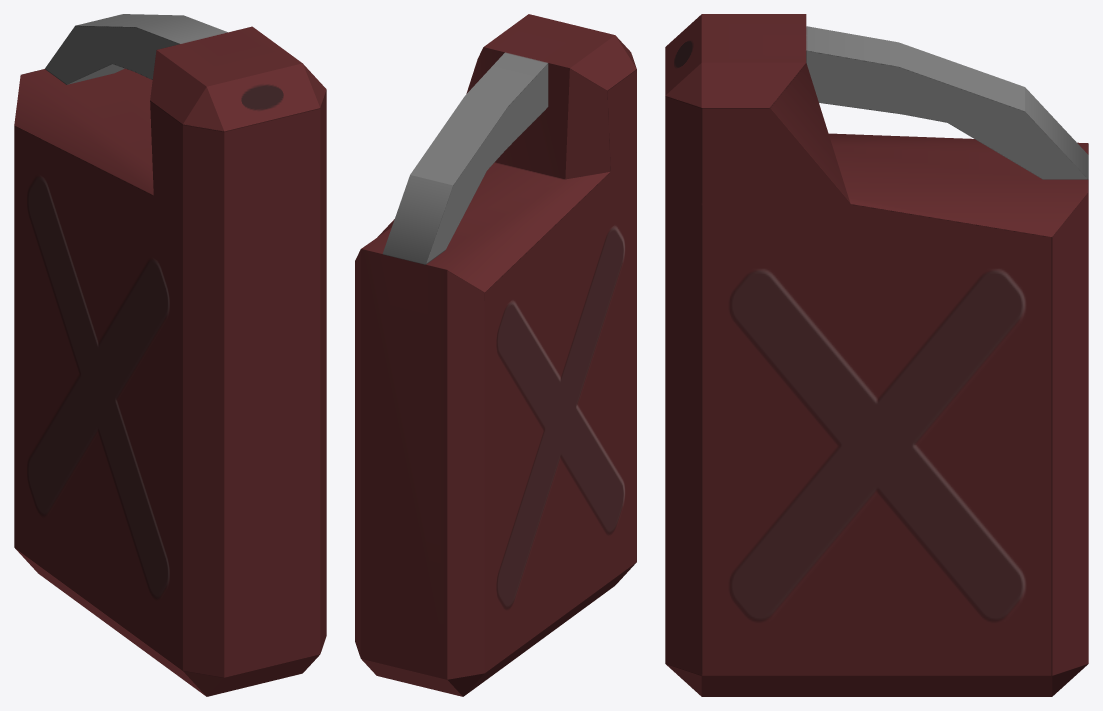
The model's file is Tank_GasCan.fbx.
3 views of the same model, side by side, from view 1: azimuth 30°, elevation 25°; view 2: azimuth 150°, elevation 25°; view 3: azimuth 270°, elevation 25° (orthographic). The views are drawn at different scales.
Visible parts, largest first — view 1: pasted__FuelCannisterF; view 2: pasted__FuelCannisterF; view 3: pasted__FuelCannisterF.
Boxes of the visible parts, x1,y1,x2,y2 form: pasted__FuelCannisterF: (14, 14, 326, 696); pasted__FuelCannisterF: (355, 14, 636, 696); pasted__FuelCannisterF: (665, 14, 1088, 696).
Bounding box in the file's own units: 0.4078 × 1.65 × 1.
